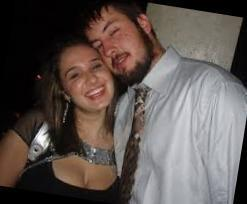Drunk: (86, 11, 149, 76), (62, 47, 110, 110)
